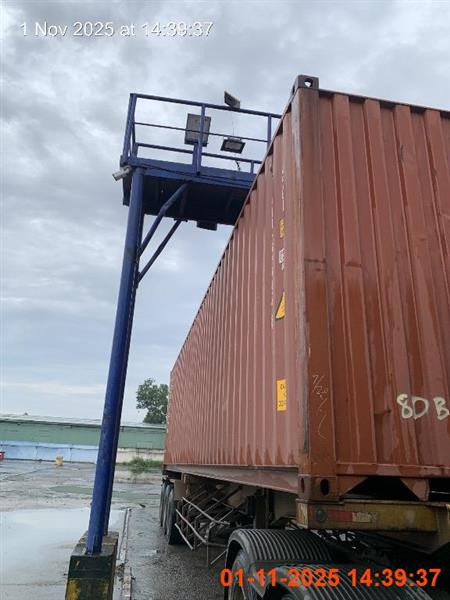crack: (160, 76, 449, 563)
